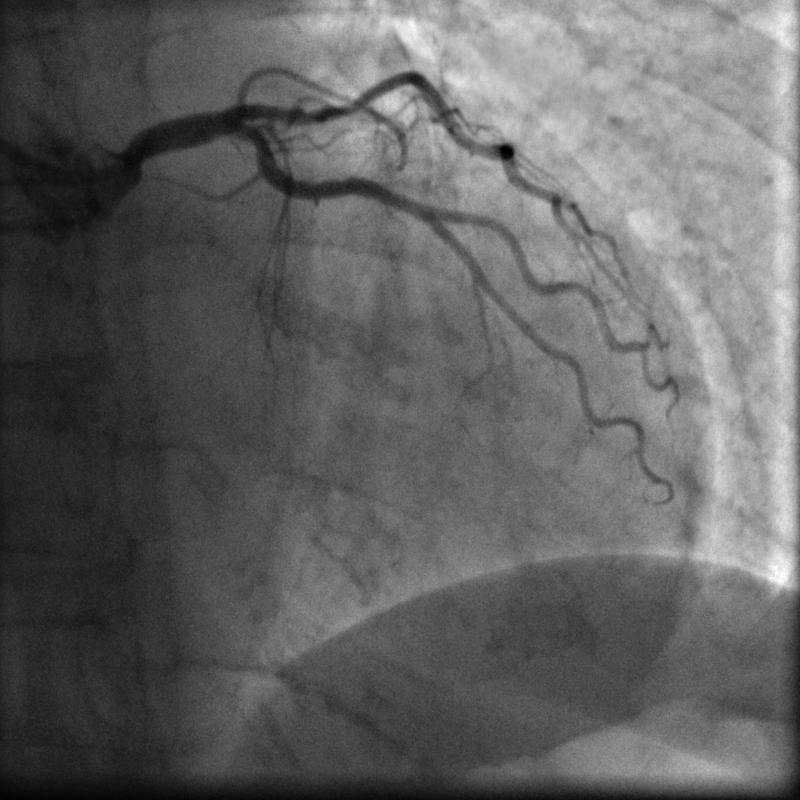Stenosis: (342, 94, 370, 117)
